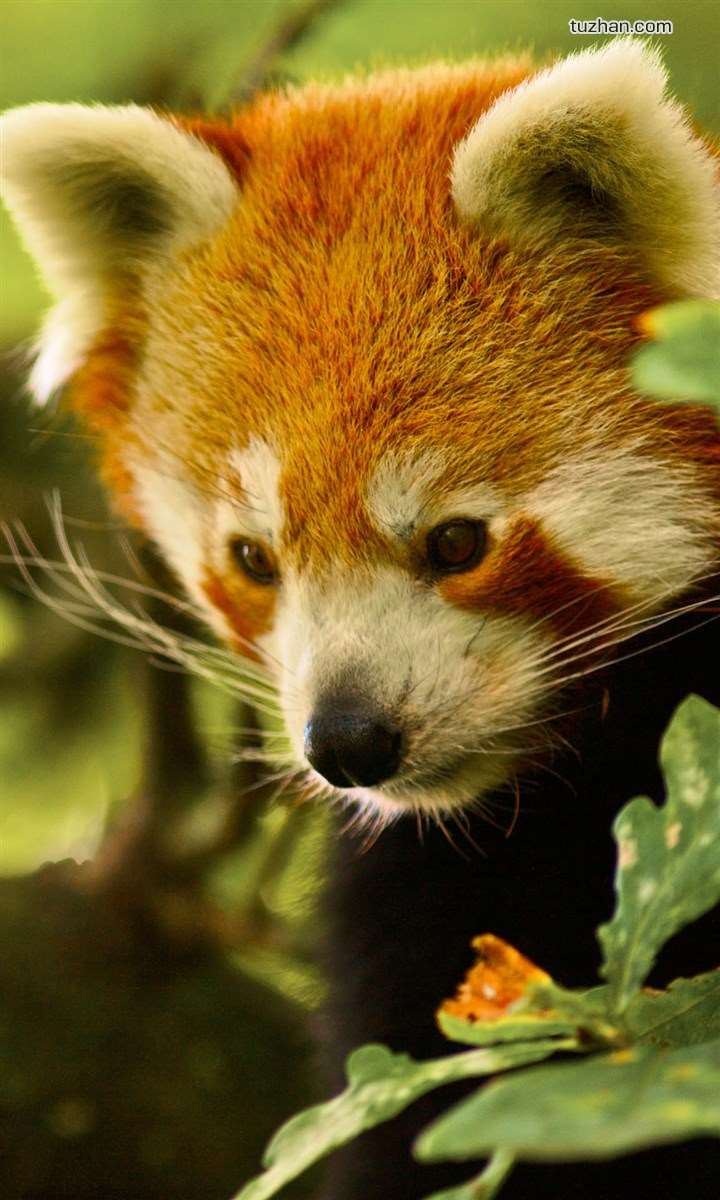raccoon: (3, 35, 720, 880)
